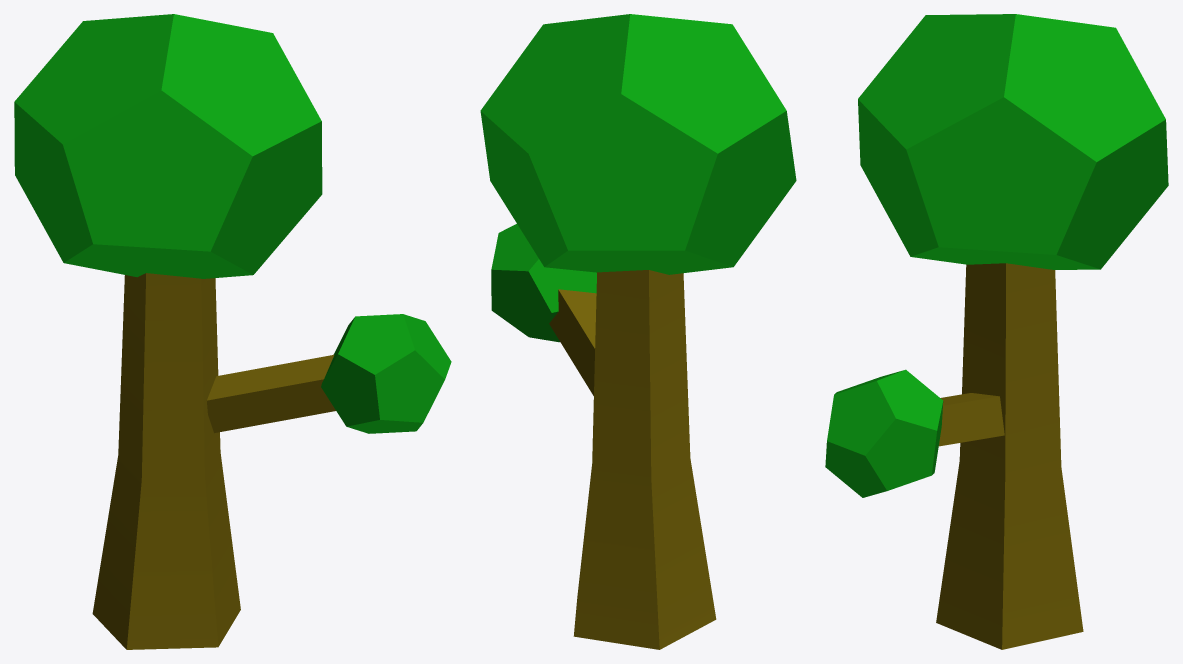
File: Tree2.fbx
3 views of the same model, side by side, from view 1: azimuth 30°, elevation 25°; view 2: azimuth 150°, elevation 25°; view 3: azimuth 270°, elevation 25° (orthographic).
Parts seen in each view (by area): view 1: Tree2; view 2: Tree2; view 3: Tree2.
Boxes of the visible parts, x1,y1,x2,y2 form: Tree2: (14,14,451,649); Tree2: (480,14,796,649); Tree2: (825,14,1168,649).
Bounding box in the file's own units: 3.37 × 5.79 × 2.97.
1 material, 1 textured.
